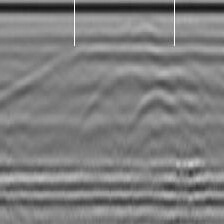Utility: (135, 67, 204, 128)
